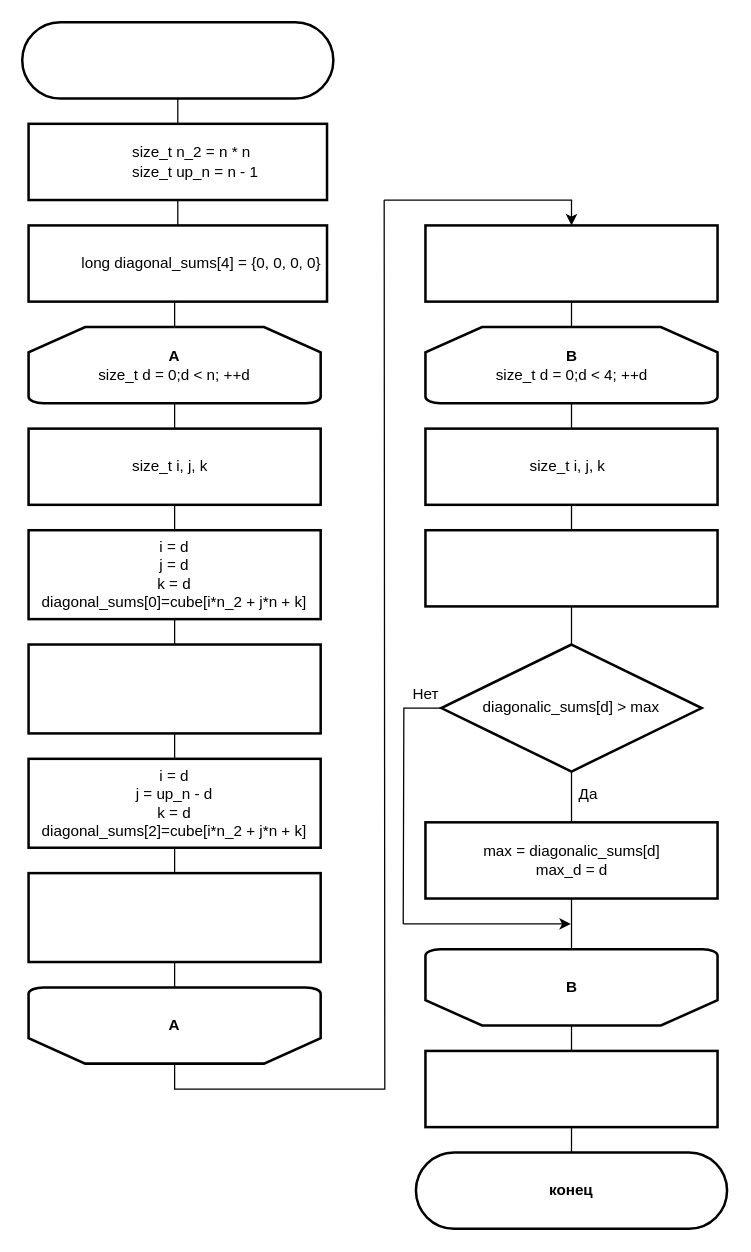
Some shapes in this 751 by 1252 pixel diagram are drawn without their labels. The centre of each missing label's shape, as x and y in pixels:
"i = d j = d k = d" goes at (571,567).
"i = up_n - d j = d k = d diagonal_sums[1]=cube[i*n_2 + j*n + k]" goes at (174,688).
"i = up_n - d j = up_n - d k = d diagonal_sums[3]=cube[i*n_2 + j*n + k]" goes at (174,917).
"long max = diagonalic_sums[0] long max_i = 0" goes at (571,263).
"return max_d" goes at (571,1088).
"size_t GetMaxDiagonalNo(long *cube, size_t n)" goes at (177,59).
